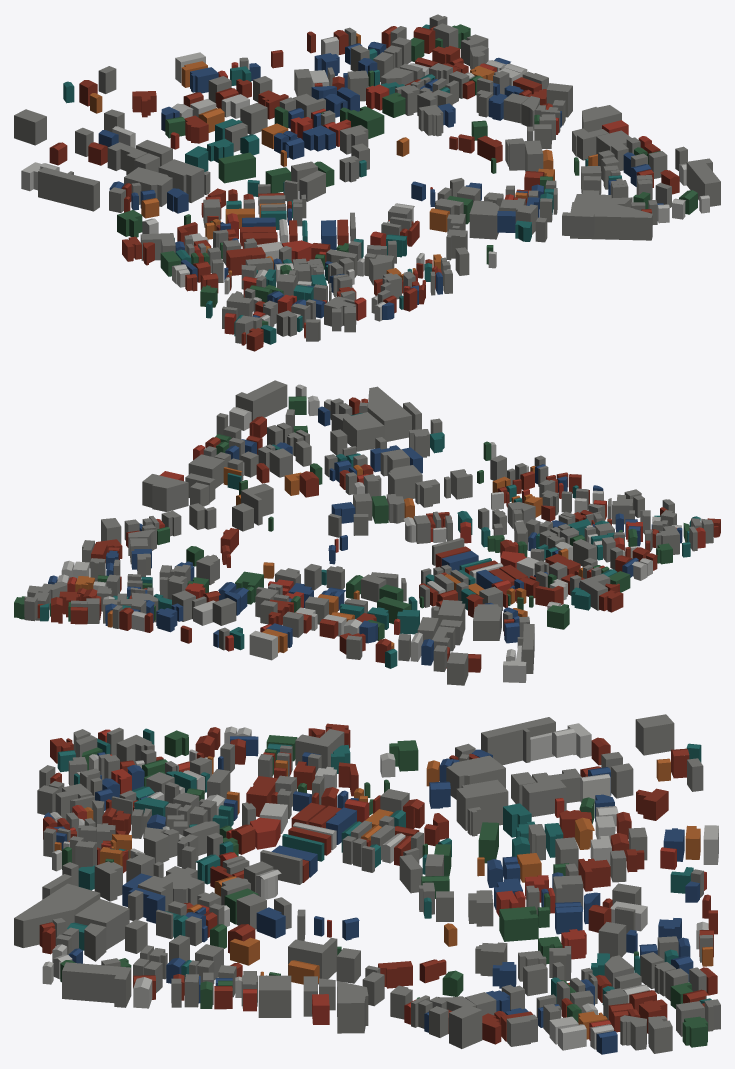
File: near-16-54720-29736.4c774ec4.glb
3 renders of one model, top to bottom at view 1: azimuth 30°, elevation 25°; view 2: azimuth 150°, elevation 25°; view 3: azimuth 270°, elevation 25°, orthographic. The views are drawn at different scales.
Size of the model in its own units: 606 by 77.21 by 617.
